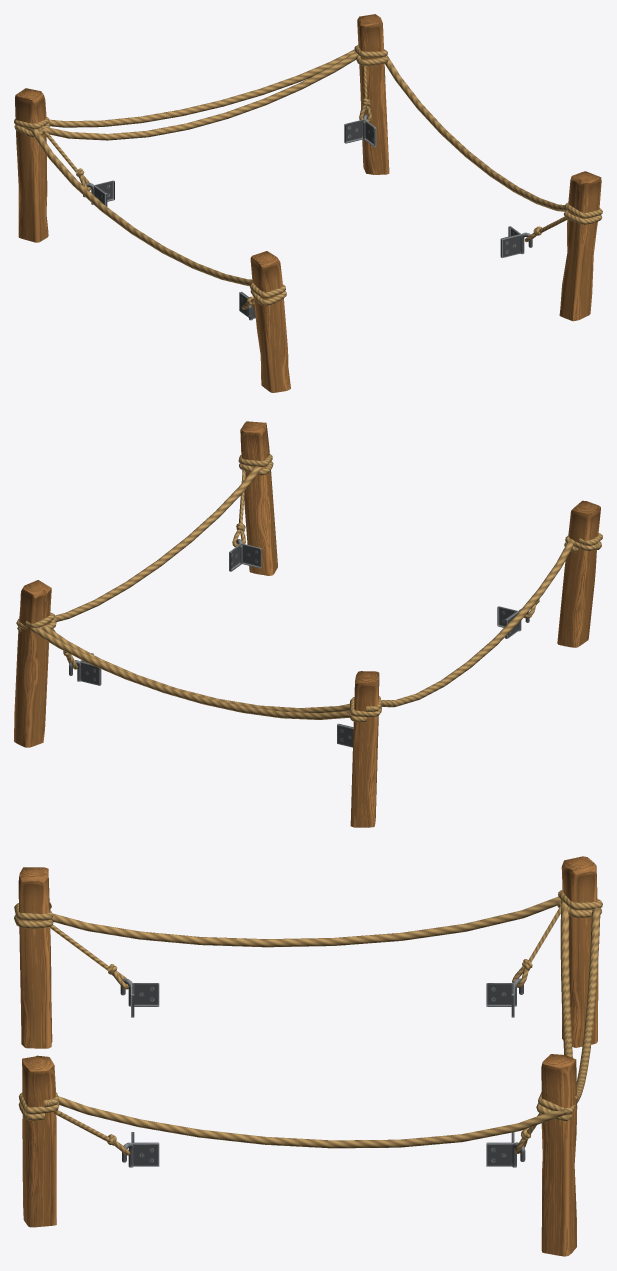
File: RopeDesignExport.fbx
3 renders of one model, top to bottom at view 1: azimuth 30°, elevation 25°; view 2: azimuth 150°, elevation 25°; view 3: azimuth 270°, elevation 25°, orthographic. The views are drawn at different scales.
Parts seen in each view (by area): view 1: RopeDesign_SideRope, RopeDesign_Wood, RopeDesign_Wood2, RopeDesign_Wood1, RopeDesign_Wood3, RopeDesign_Rope_4, RopeDesign_Rope_3, RopeDesign_Rope_1, RopeDesign_Pin3, RopeDesign_Pin, RopeDesign_Rope_2; view 2: RopeDesign_SideRope, RopeDesign_Wood3, RopeDesign_Wood1, RopeDesign_Wood2, RopeDesign_Wood, RopeDesign_Rope_1, RopeDesign_Pin, RopeDesign_Pin3; view 3: RopeDesign_SideRope, RopeDesign_Wood3, RopeDesign_Wood, RopeDesign_Wood1, RopeDesign_Wood2, RopeDesign_Rope_2, RopeDesign_Rope_3, RopeDesign_Rope_1, RopeDesign_Pin, RopeDesign_Pin3, RopeDesign_Pin1, RopeDesign_Pin2 (+1 smaller).
Boxes of the visible parts, left/top/right/bottom form: RopeDesign_SideRope: left=30, top=50, right=566, bottom=286; RopeDesign_Wood: left=559, top=171, right=601, bottom=321; RopeDesign_Wood2: left=15, top=88, right=48, bottom=242; RopeDesign_Wood1: left=250, top=251, right=290, bottom=392; RopeDesign_Wood3: left=357, top=14, right=389, bottom=174; RopeDesign_Rope_4: left=354, top=45, right=388, bottom=122; RopeDesign_Rope_3: left=14, top=117, right=91, bottom=190; RopeDesign_Rope_1: left=524, top=203, right=602, bottom=242; RopeDesign_Pin3: left=344, top=114, right=376, bottom=146; RopeDesign_Pin: left=500, top=226, right=532, bottom=257; RopeDesign_Rope_2: left=242, top=282, right=286, bottom=309; RopeDesign_SideRope: left=17, top=466, right=573, bottom=719; RopeDesign_Wood3: left=14, top=580, right=51, bottom=747; RopeDesign_Wood1: left=557, top=500, right=600, bottom=647; RopeDesign_Wood2: left=350, top=671, right=379, bottom=827; RopeDesign_Wood: left=240, top=421, right=277, bottom=575; RopeDesign_Rope_1: left=232, top=454, right=273, bottom=547; RopeDesign_Pin: left=229, top=539, right=261, bottom=571; RopeDesign_Pin3: left=69, top=653, right=101, bottom=685; RopeDesign_SideRope: left=50, top=897, right=600, bottom=1148; RopeDesign_Wood3: left=541, top=1054, right=577, bottom=1256; RopeDesign_Wood: left=22, top=1055, right=56, bottom=1227; RopeDesign_Wood1: left=18, top=867, right=52, bottom=1048; RopeDesign_Wood2: left=561, top=856, right=598, bottom=1047; RopeDesign_Rope_2: left=14, top=902, right=128, bottom=989; RopeDesign_Rope_3: left=512, top=889, right=602, bottom=987; RopeDesign_Rope_1: left=18, top=1092, right=130, bottom=1155; RopeDesign_Pin: left=122, top=1132, right=159, bottom=1167; RopeDesign_Pin3: left=486, top=1132, right=525, bottom=1167; RopeDesign_Pin1: left=120, top=978, right=159, bottom=1017; RopeDesign_Pin2: left=486, top=978, right=523, bottom=1017.
Size of the model in its own units: 810 by 935 by 328.
